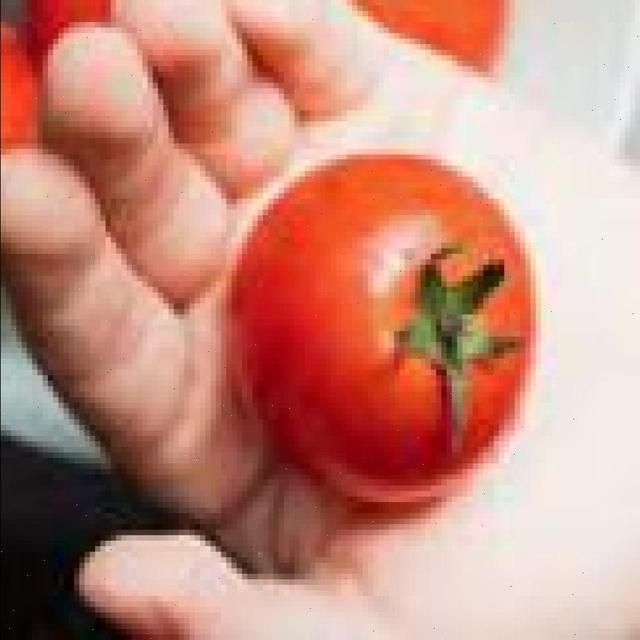Healthy Fruit: (160, 91, 370, 342)
